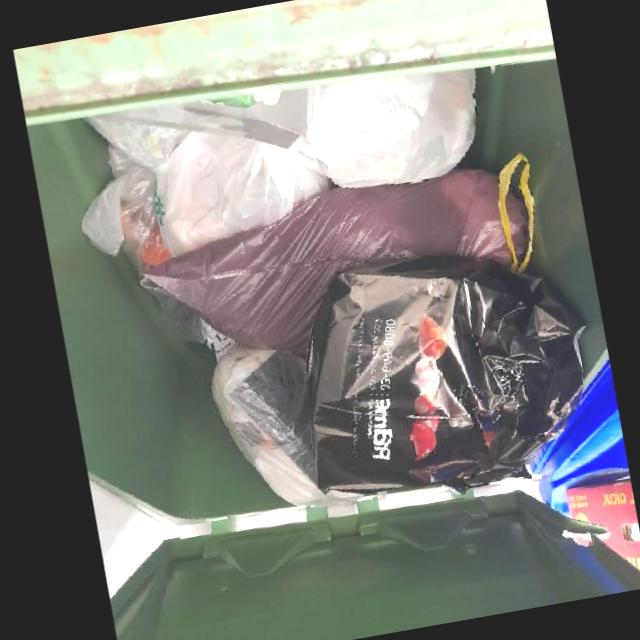carton: (94, 88, 307, 147)
tui_ni_long: (144, 153, 534, 358), (308, 254, 585, 493), (85, 117, 336, 256), (80, 143, 216, 342), (304, 63, 476, 187), (211, 343, 325, 505)
